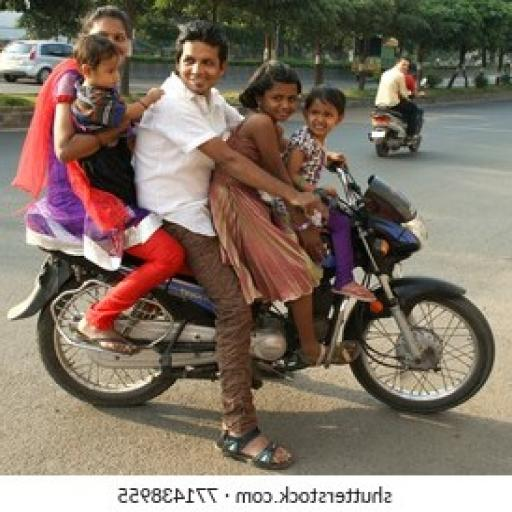overloading: (9, 155, 497, 417)
